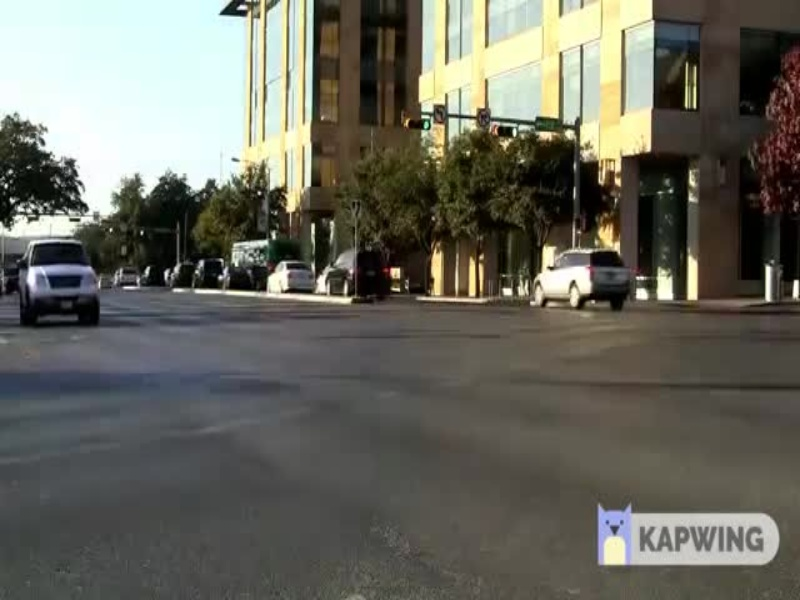car: (522, 229, 641, 322), (14, 234, 112, 337), (266, 258, 321, 296)
